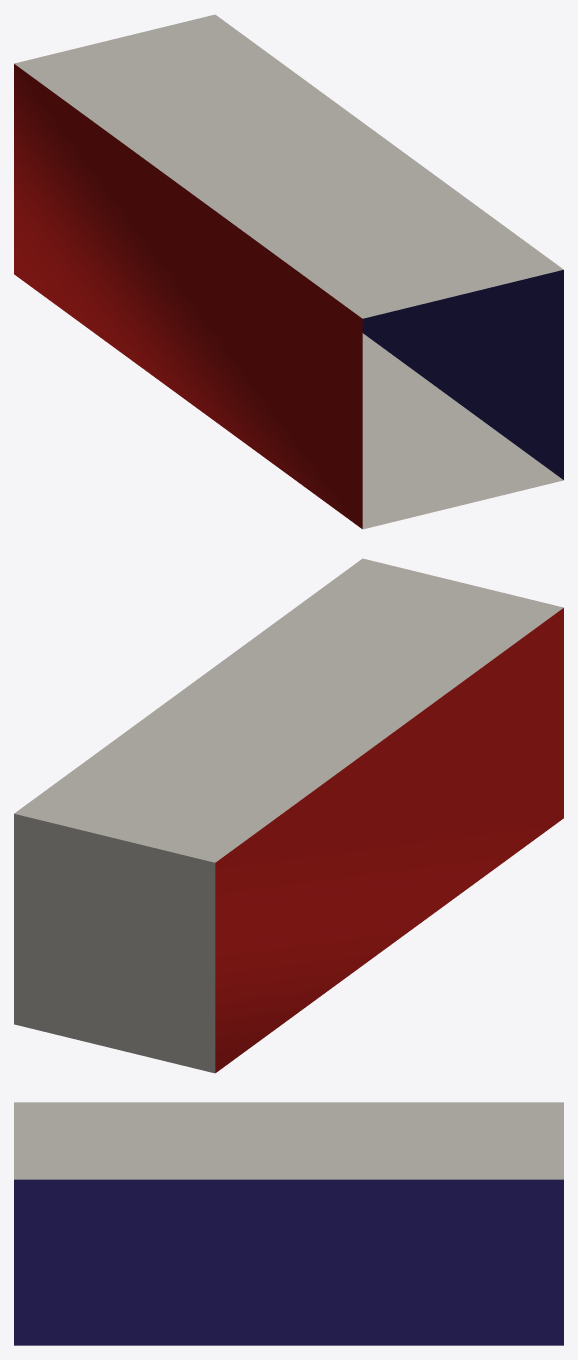
File: CornellBox-Sphere.obj
3 renders of one model, top to bottom at view 1: azimuth 30°, elevation 25°; view 2: azimuth 150°, elevation 25°; view 3: azimuth 270°, elevation 25°, orthographic. The views are drawn at different scales.
Visible parts, largest first — view 1: leftWall, ceiling, rightWall, floor; view 2: leftWall, ceiling, backWall; view 3: rightWall, ceiling.
Boxes of the visible parts, x1=… form: leftWall: x1=14, y1=64, x2=362, y2=528; ceiling: x1=14, y1=14, x2=563, y2=318; rightWall: x1=362, y1=270, x2=563, y2=479; floor: x1=362, y1=333, x2=563, y2=529; leftWall: x1=215, y1=608, x2=563, y2=1072; ceiling: x1=14, y1=558, x2=563, y2=862; backWall: x1=14, y1=814, x2=215, y2=1073; rightWall: x1=14, y1=1179, x2=563, y2=1345; ceiling: x1=14, y1=1102, x2=563, y2=1179.
Size of the model in its own units: 2 by 2 by 6.
